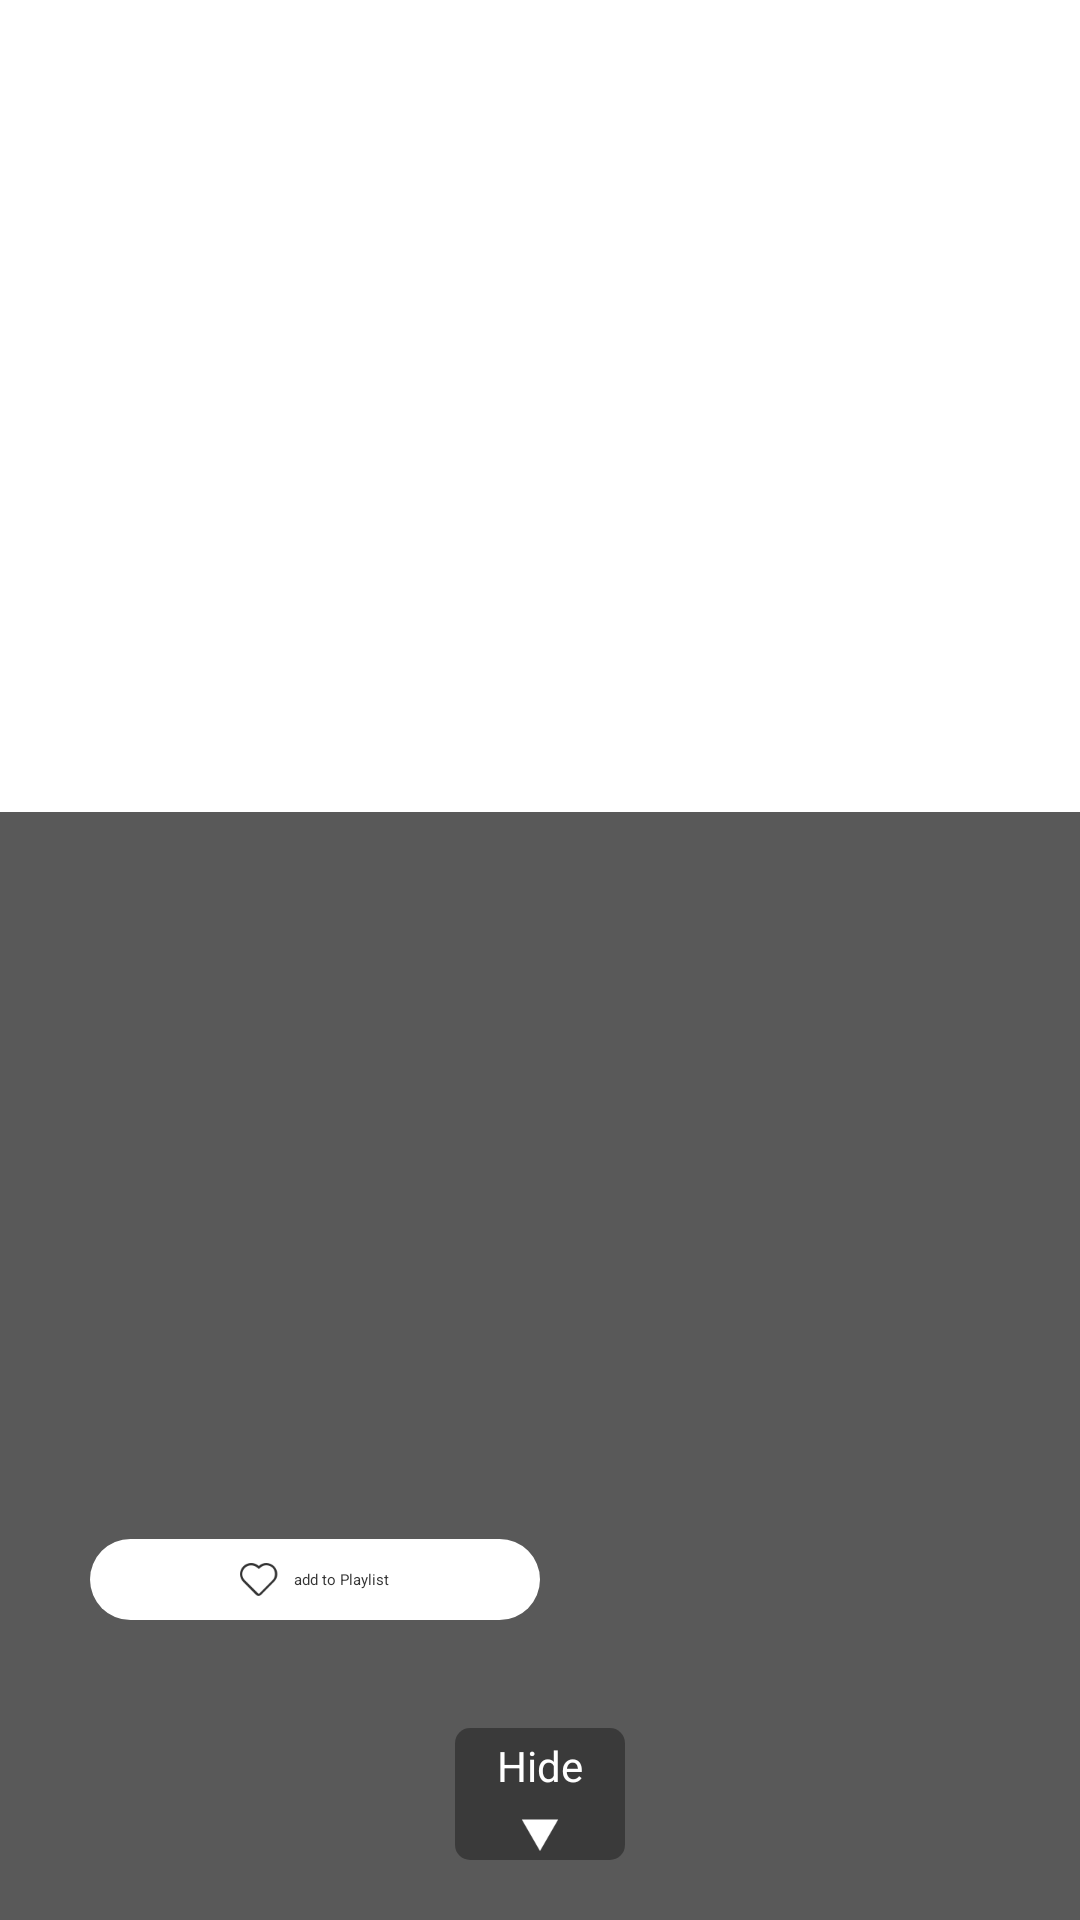

Icon click points for this 1080x1920 phone screenshot, format (x,y):
love no: (259,1579)
